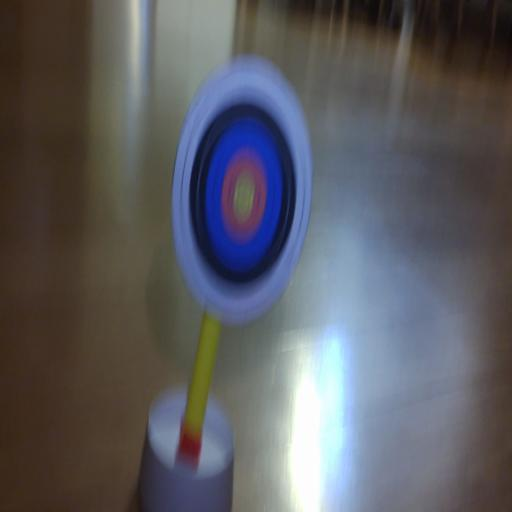target: (172, 58, 312, 322)
